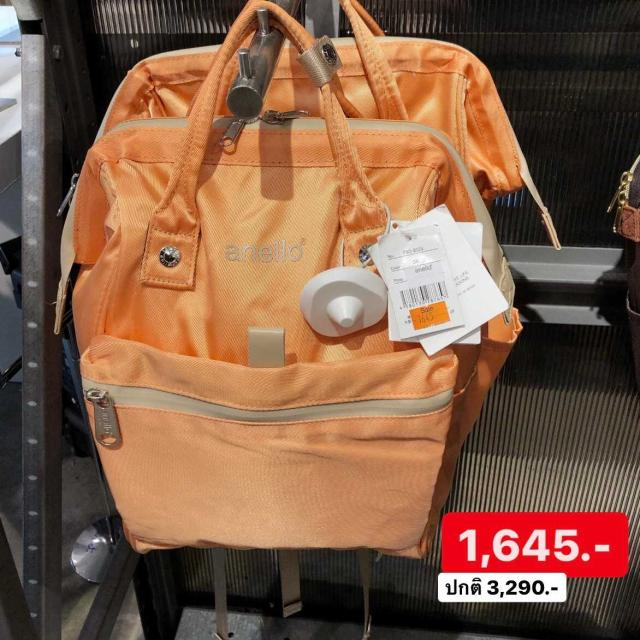Handbag: (53, 0, 530, 563)
